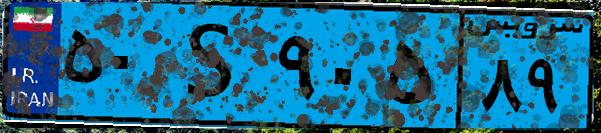0: (330, 28, 385, 110), (110, 28, 158, 98)
5: (385, 28, 445, 110), (57, 26, 110, 100)
8: (475, 38, 525, 113)
9: (270, 28, 330, 110), (525, 38, 570, 115)
S: (158, 12, 270, 120)
